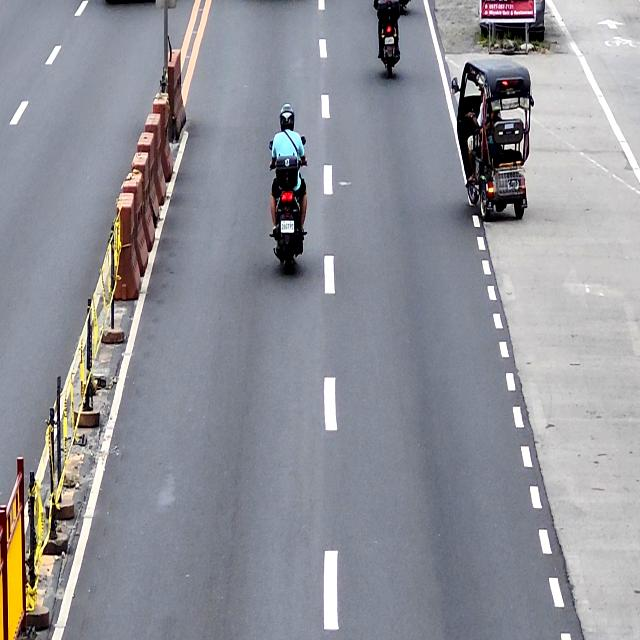E-bike: (452, 55, 535, 218)
License-Plate: (280, 219, 294, 234), (384, 36, 394, 46)
Motorcycle: (267, 133, 309, 271), (376, 0, 402, 80)
